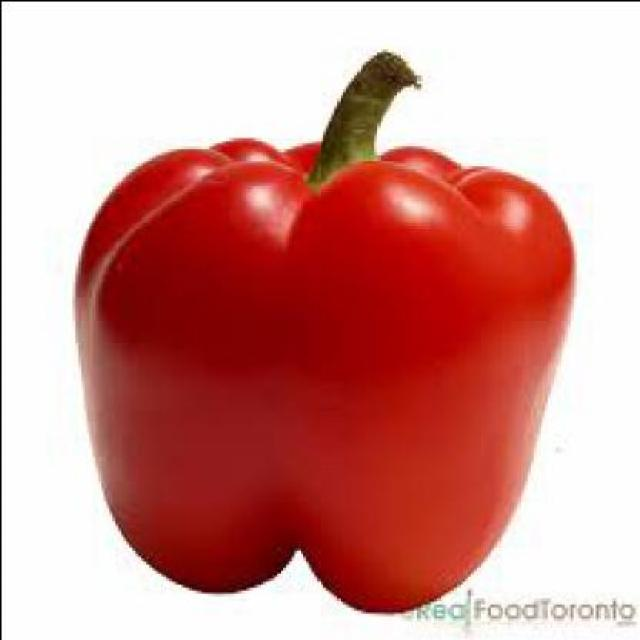BIODEGRADABLE: (71, 46, 569, 608)
